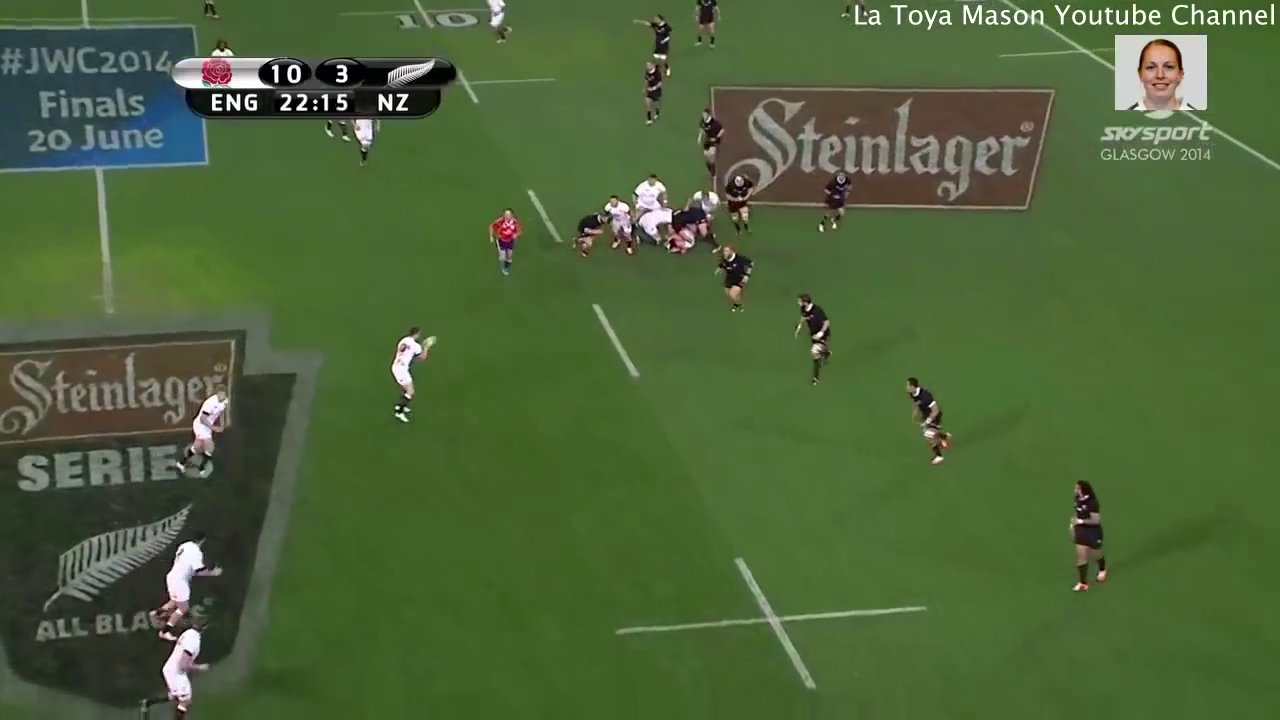10_metre: (597, 546, 944, 702), (406, 63, 565, 112), (332, 1, 519, 34)
player: (123, 607, 216, 720), (146, 525, 229, 646), (1055, 469, 1115, 600), (170, 376, 245, 480), (381, 314, 445, 427), (896, 369, 961, 472), (787, 286, 848, 391), (704, 237, 761, 322), (652, 197, 729, 256), (627, 5, 682, 84), (480, 200, 530, 286), (593, 181, 644, 264), (686, 101, 731, 186), (621, 156, 673, 216), (811, 164, 853, 237), (720, 166, 758, 240), (633, 55, 668, 131), (569, 201, 610, 265), (680, 1, 724, 55), (476, 1, 519, 52), (682, 180, 724, 229), (351, 109, 385, 168)
